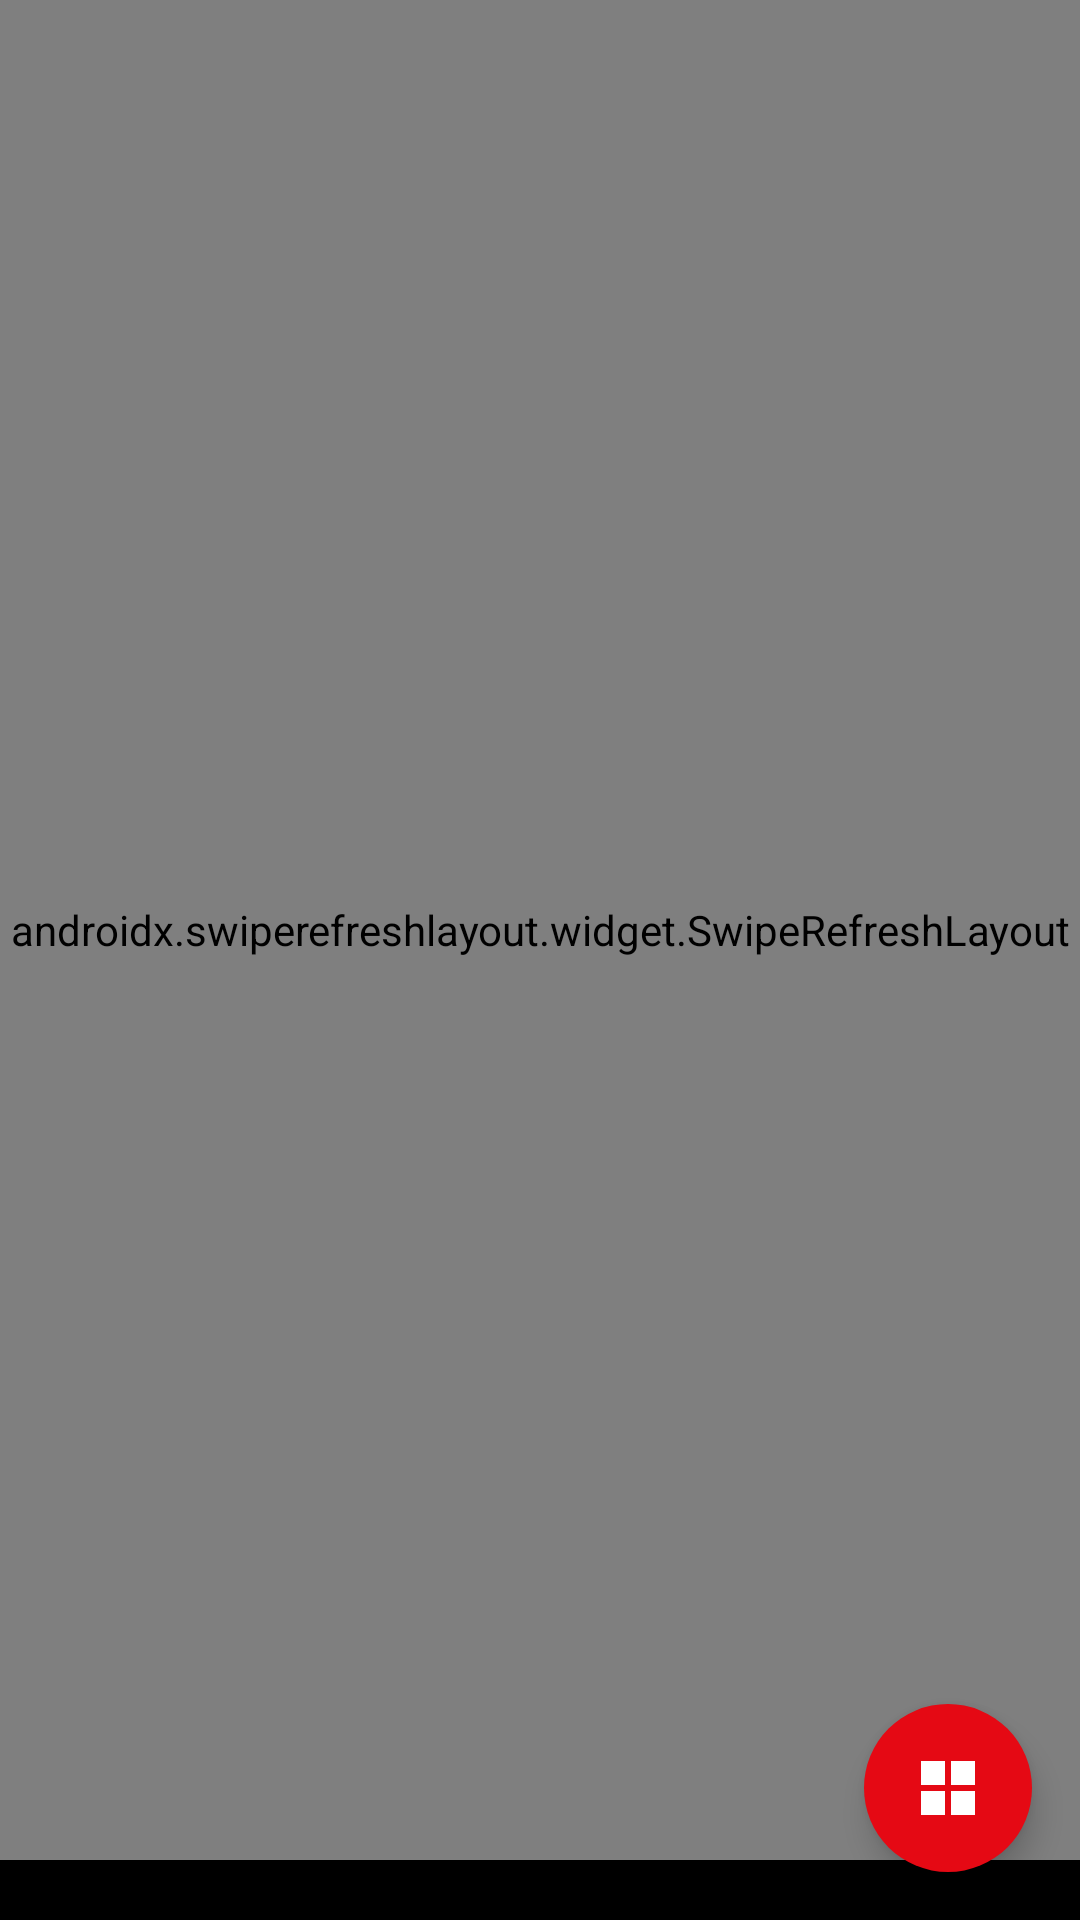

Screen size 1080x1920. Icon name, then its center in pixels as (x=x, y=y):
Toggle View Mode: (x=948, y=1788)
